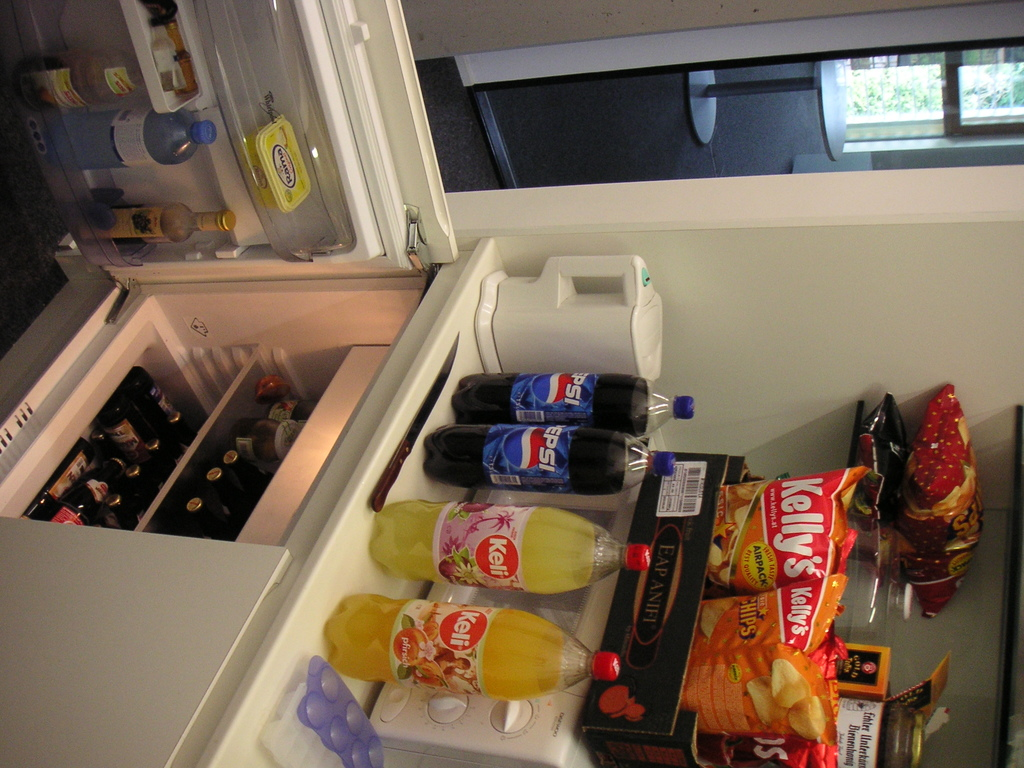refrigerator door: (38, 27, 410, 246)
